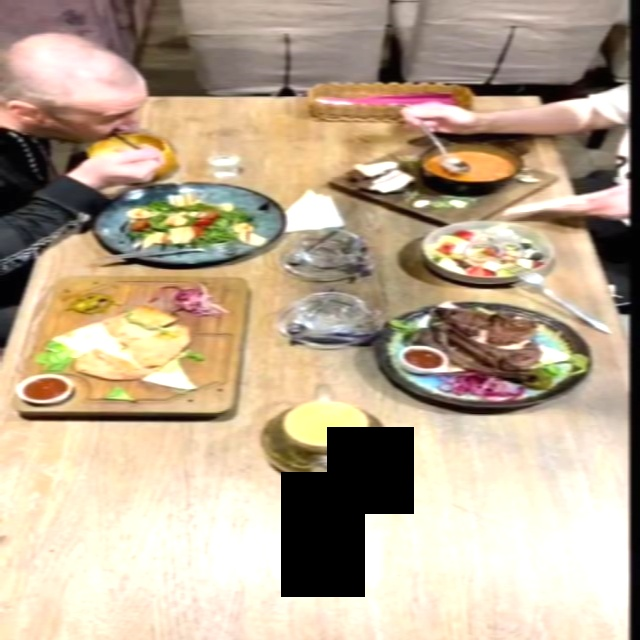meat: (10, 275, 258, 415), (369, 299, 592, 406)
salad: (89, 180, 283, 263), (420, 218, 555, 283)
soup: (329, 139, 558, 225), (85, 133, 177, 178)
tea: (253, 371, 410, 498)
